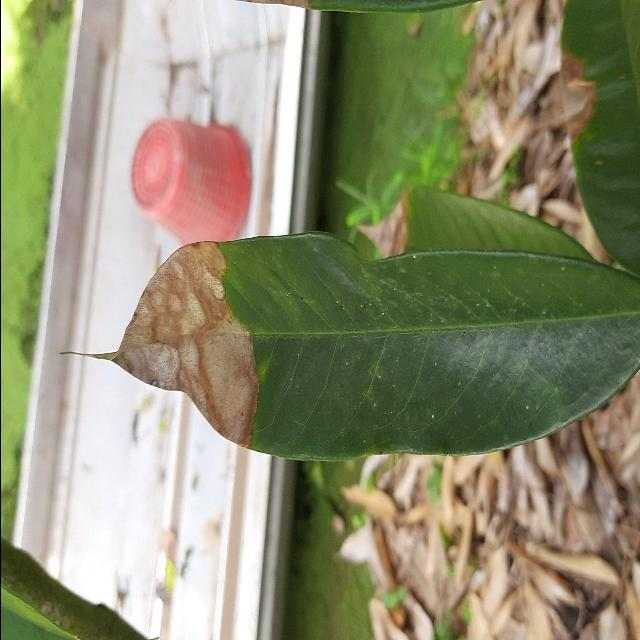Leaf Blight: (95, 221, 640, 467)
